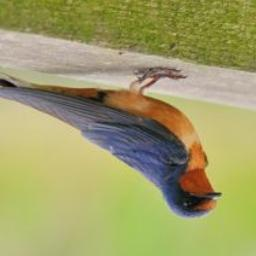Swallow: (0, 58, 229, 225)
